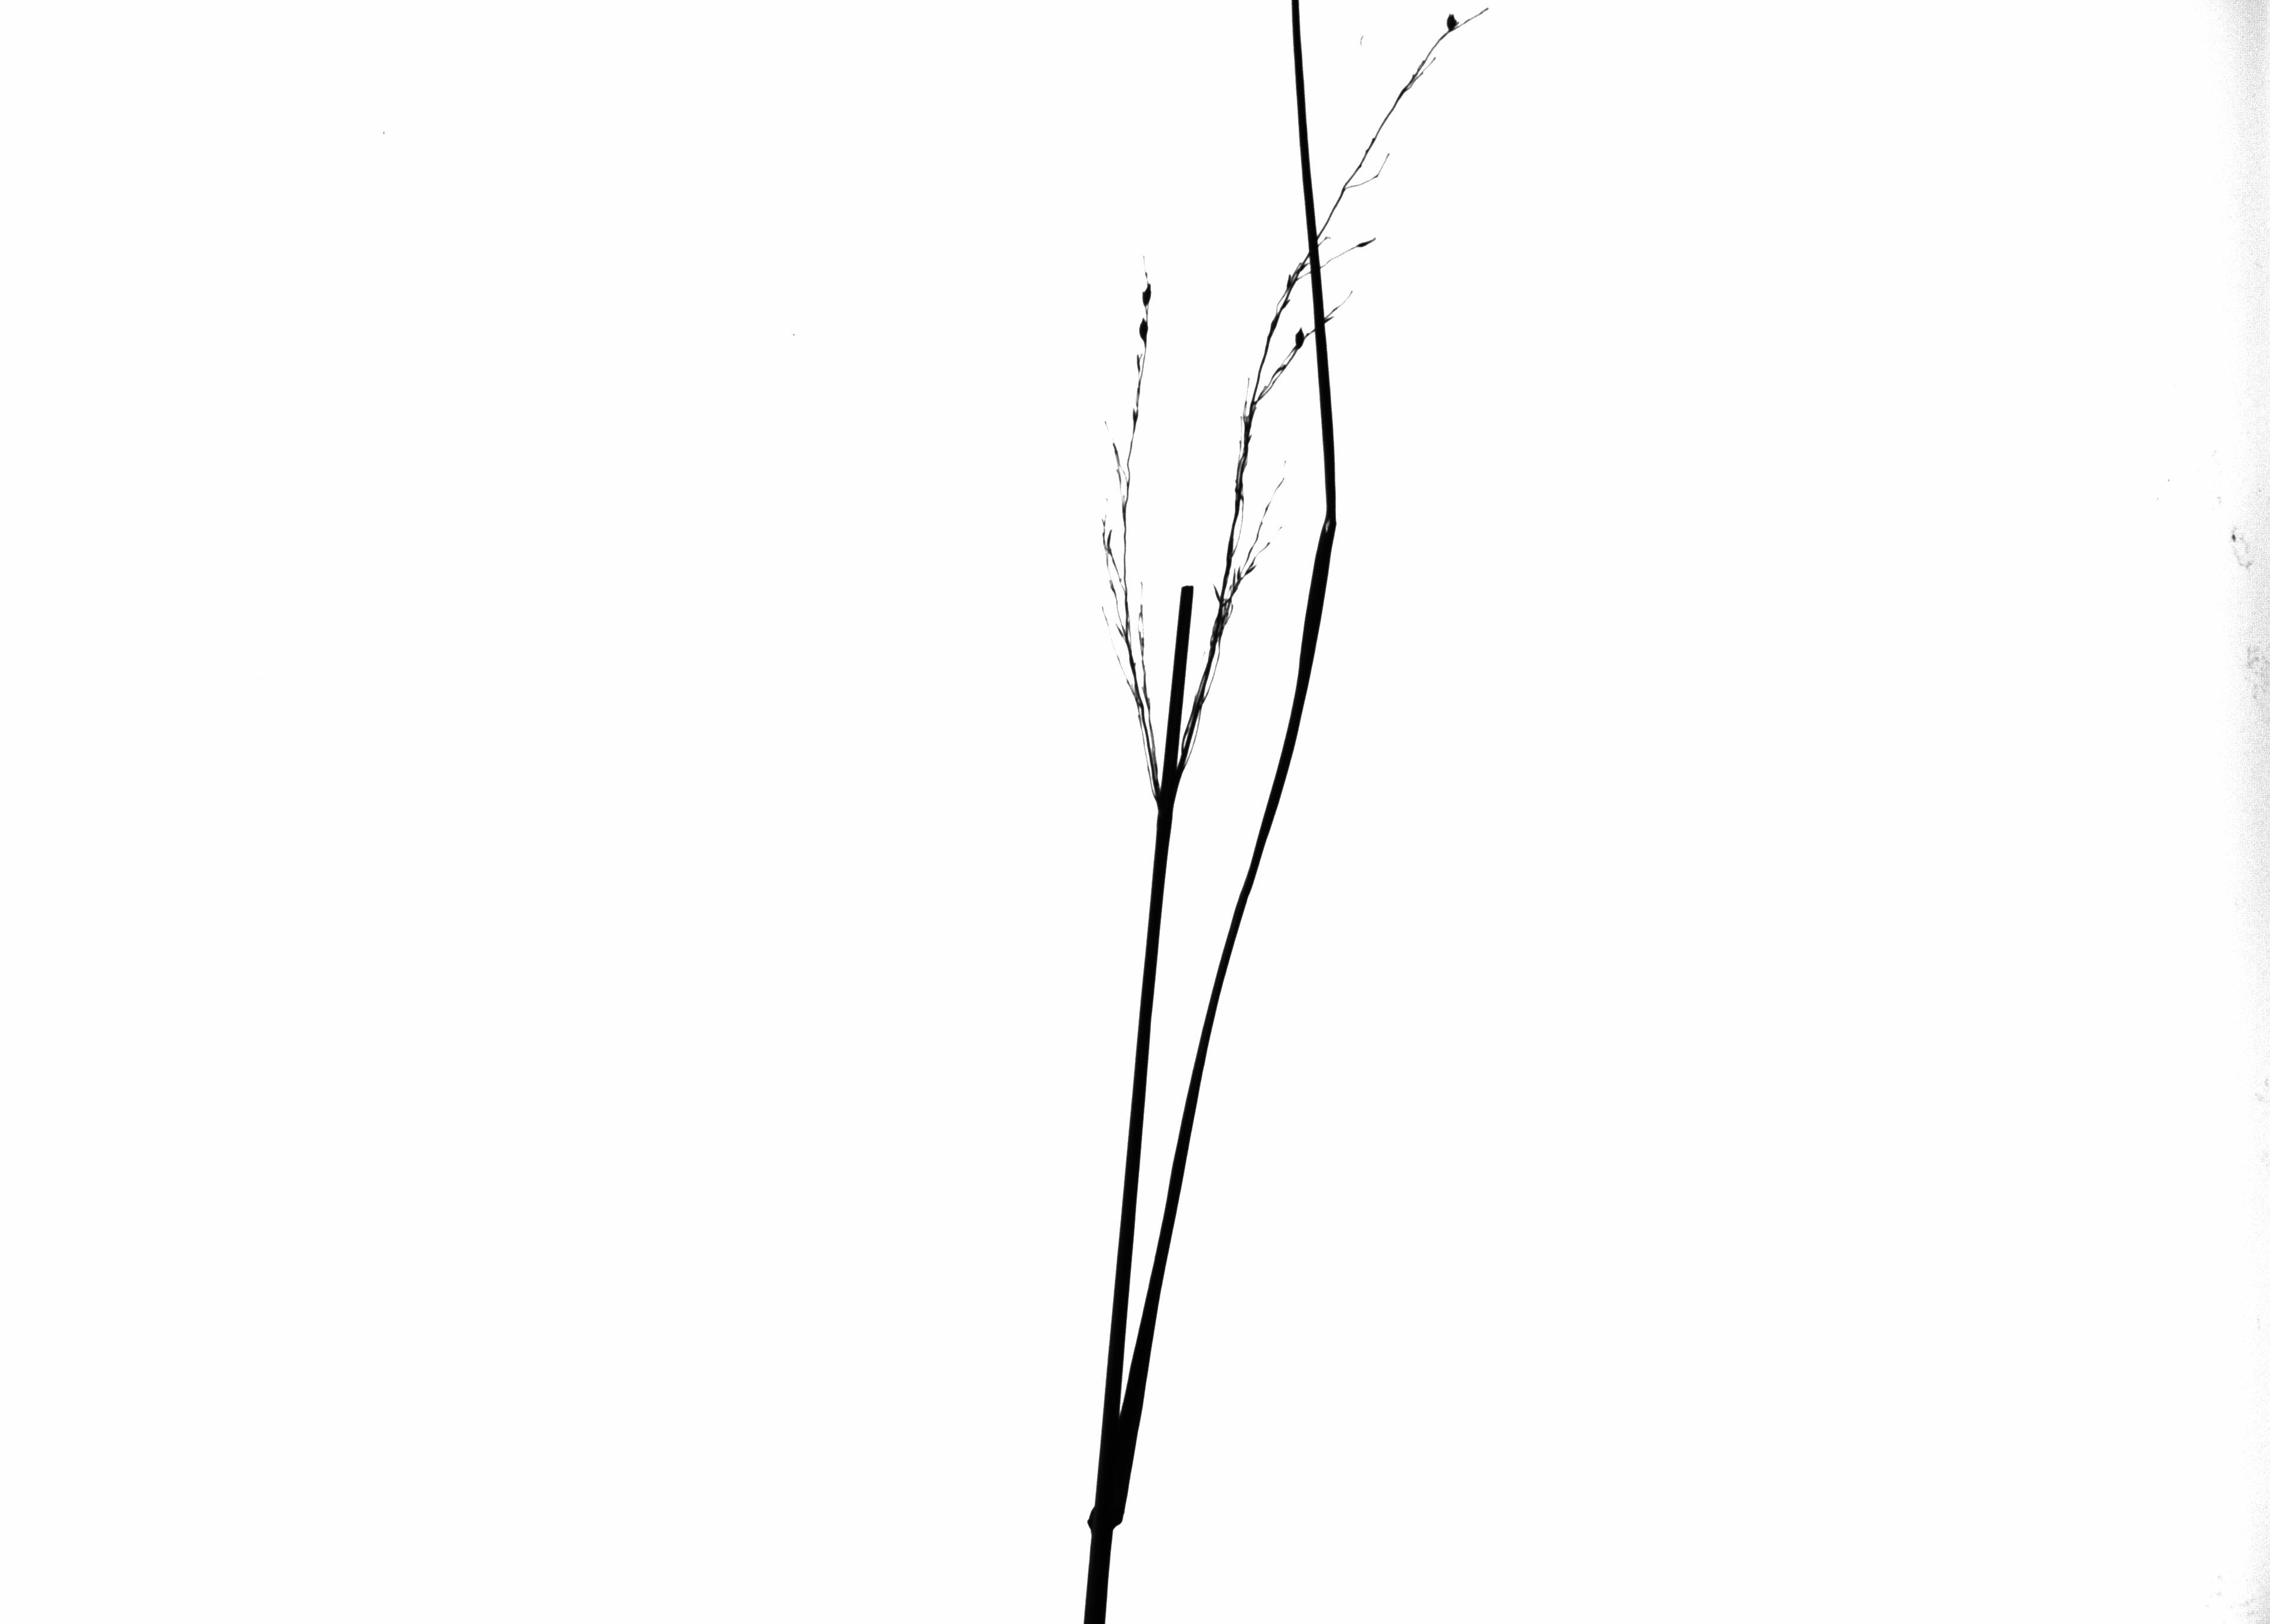seed: (1132, 283, 1157, 309), (1132, 316, 1153, 346), (1291, 325, 1310, 353), (1354, 232, 1379, 253), (1442, 11, 1461, 35)
